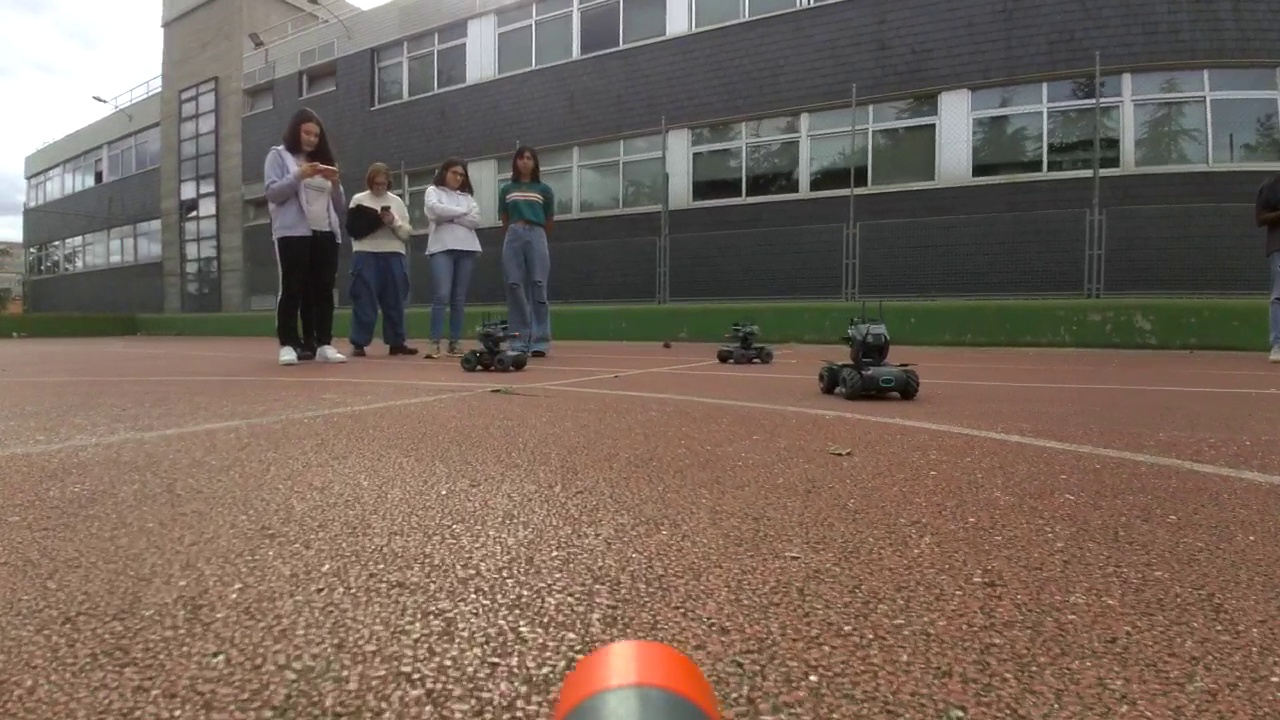robot: (818, 318, 920, 400), (461, 320, 528, 372), (717, 319, 774, 365)
